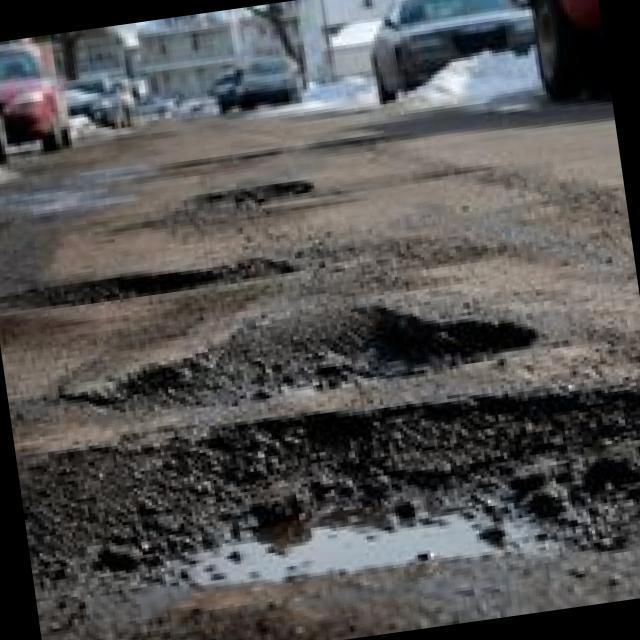Pothole: (15, 350, 640, 640), (56, 261, 590, 428), (0, 224, 333, 332), (119, 167, 360, 239), (127, 130, 309, 190)
